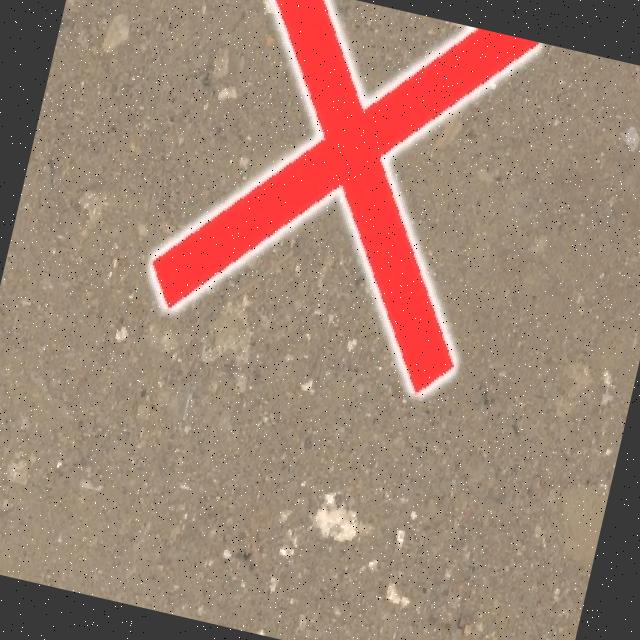x_marker: (137, 0, 537, 400)
